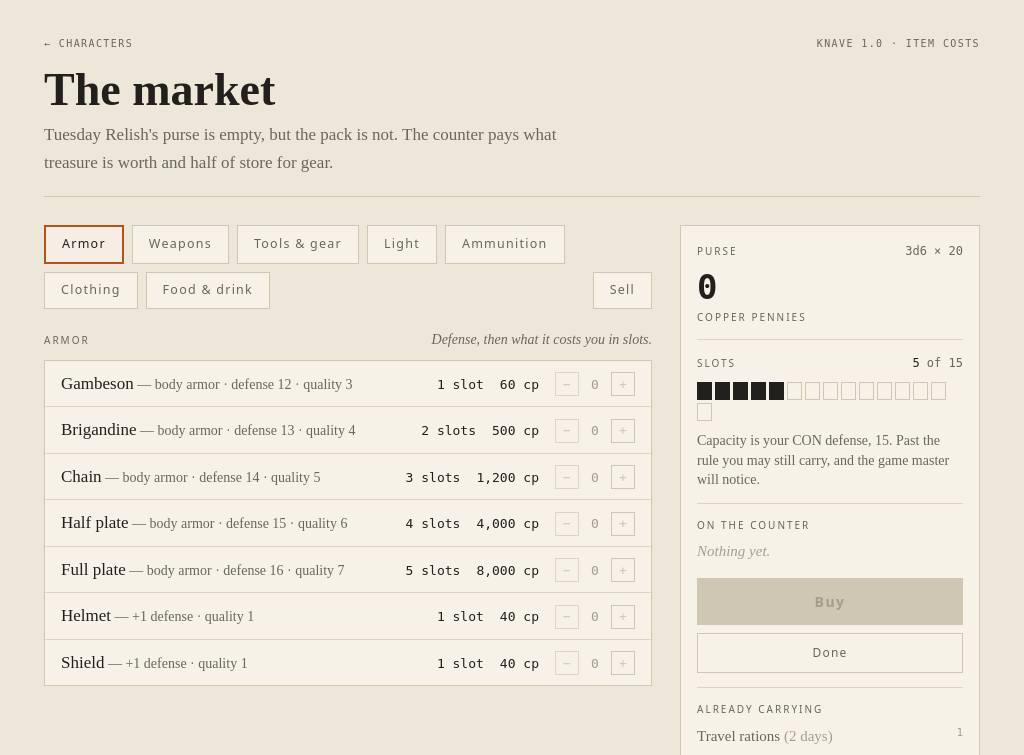
Test: the counter, selling › says on the button what selling all the treasure would make
Click the button "Sell".
click(622, 290)  # box [593,272,652,309]
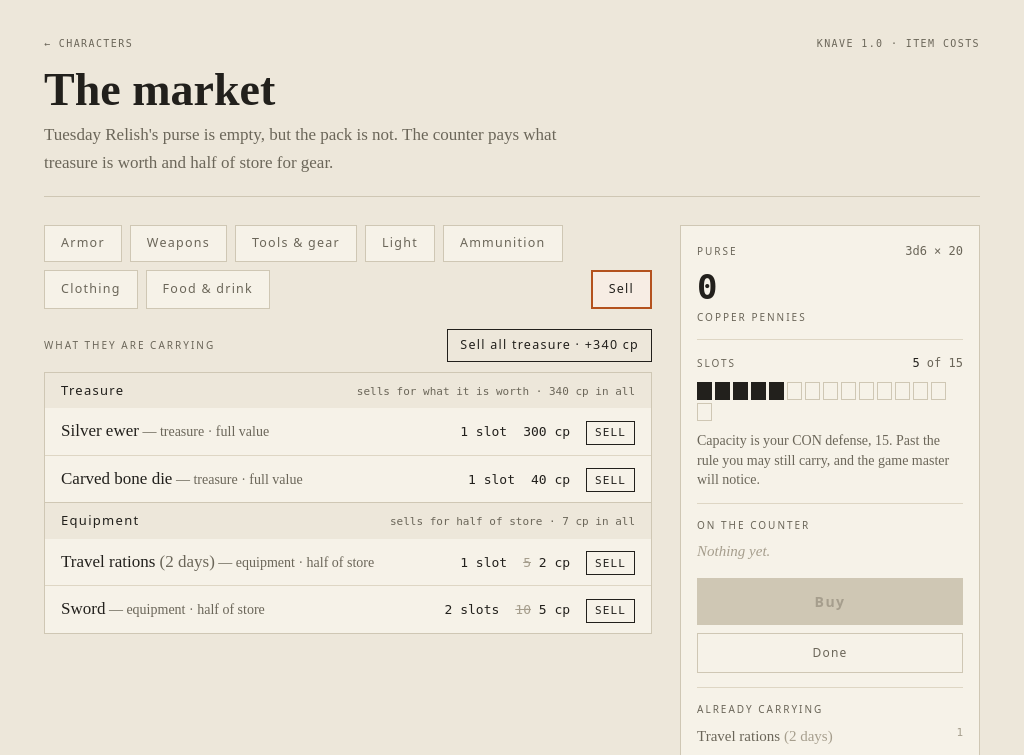
Check: the button "Sell all treasure · +340 cp" is shown, box [447,329,652,362]
